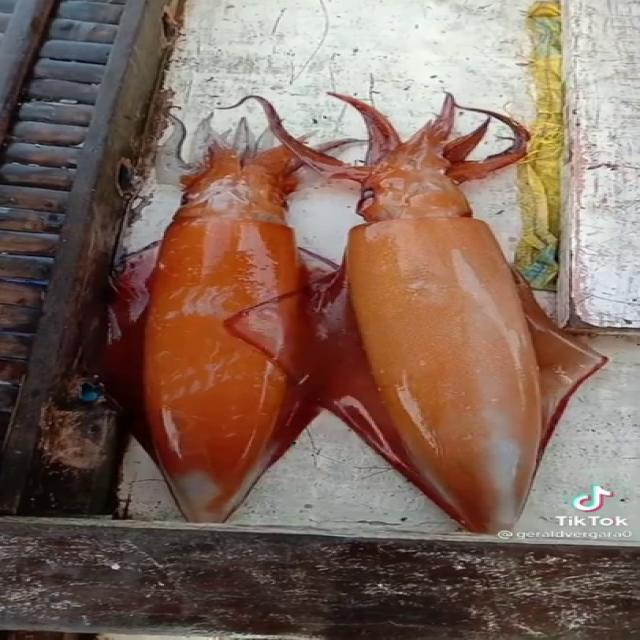SQUID: (258, 23, 625, 520), (100, 67, 337, 540)
